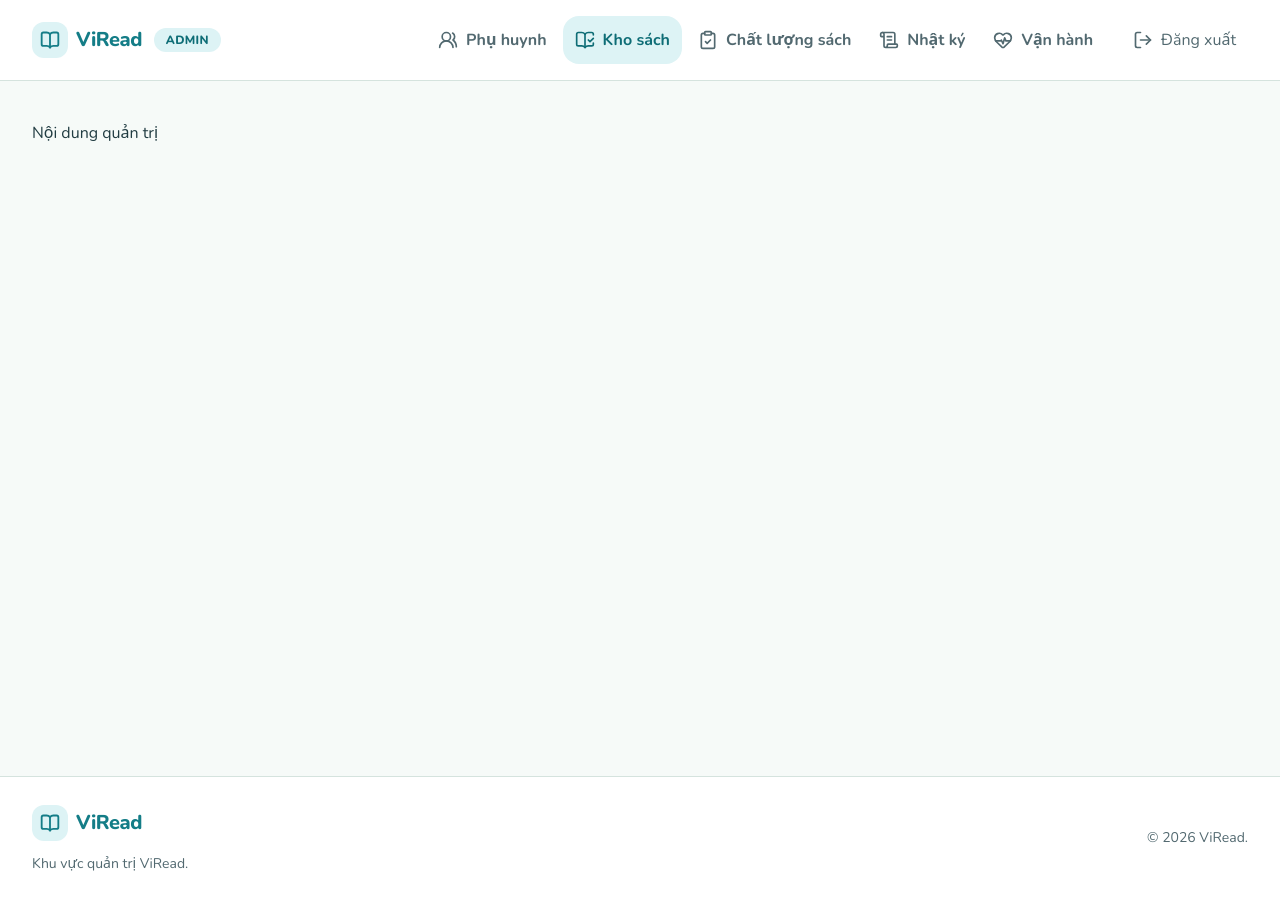
Test case: admin components › keeps the protected route visible when admin sign-out fails
Click the button "Đăng xuất" at (1185, 40), box [1121,16,1248,64]
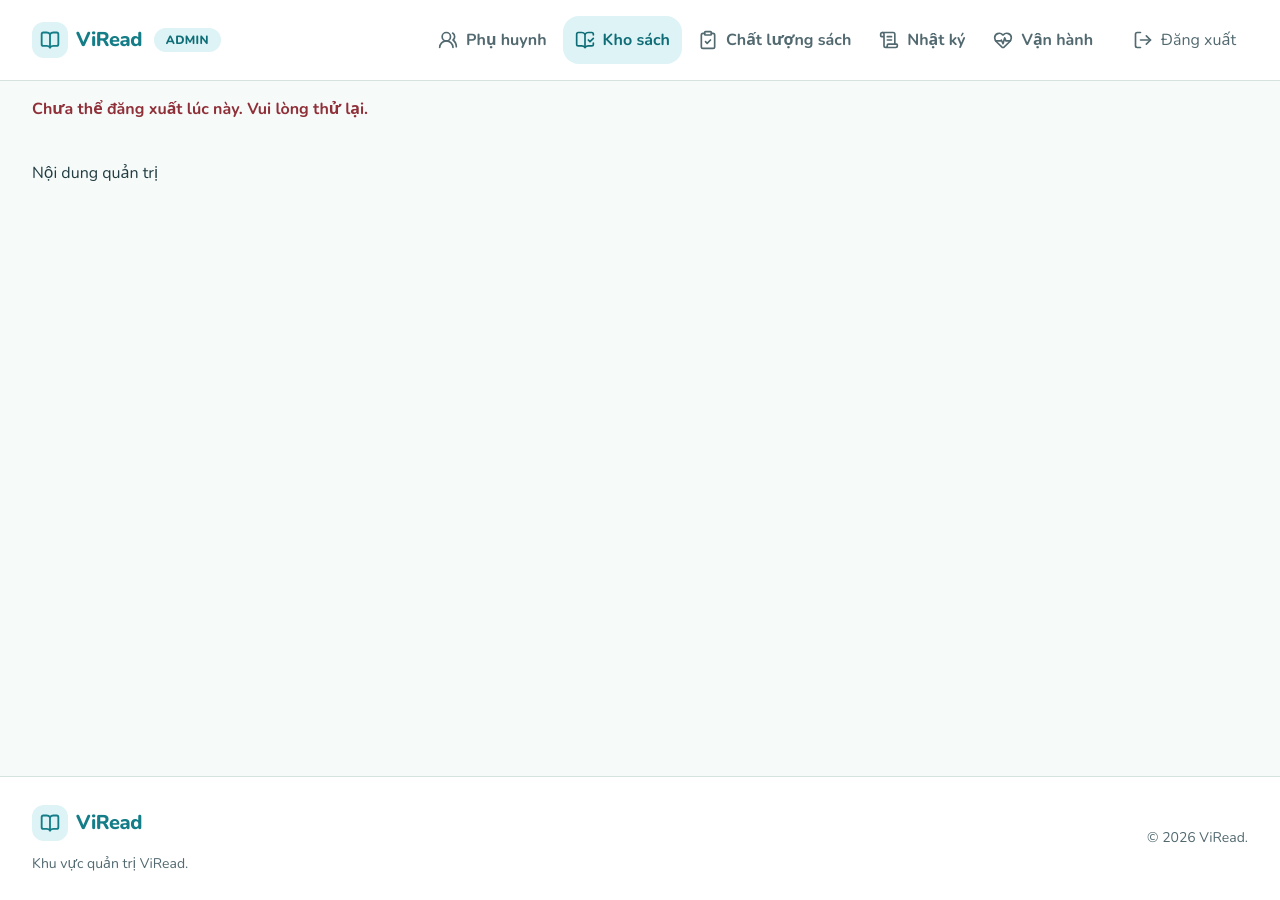
Expected: the message does not show "provider unavailable", [32,98,368,120]
Expected: the message shows "Chưa thể đăng xuất lúc này", [32,98,368,120]
